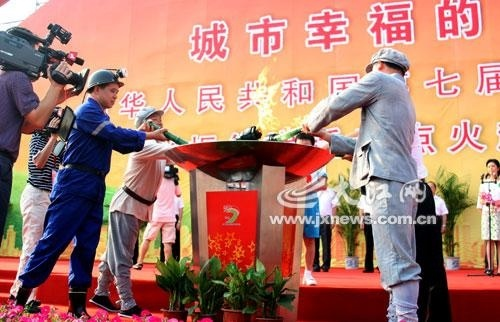fire: (246, 64, 308, 137)
